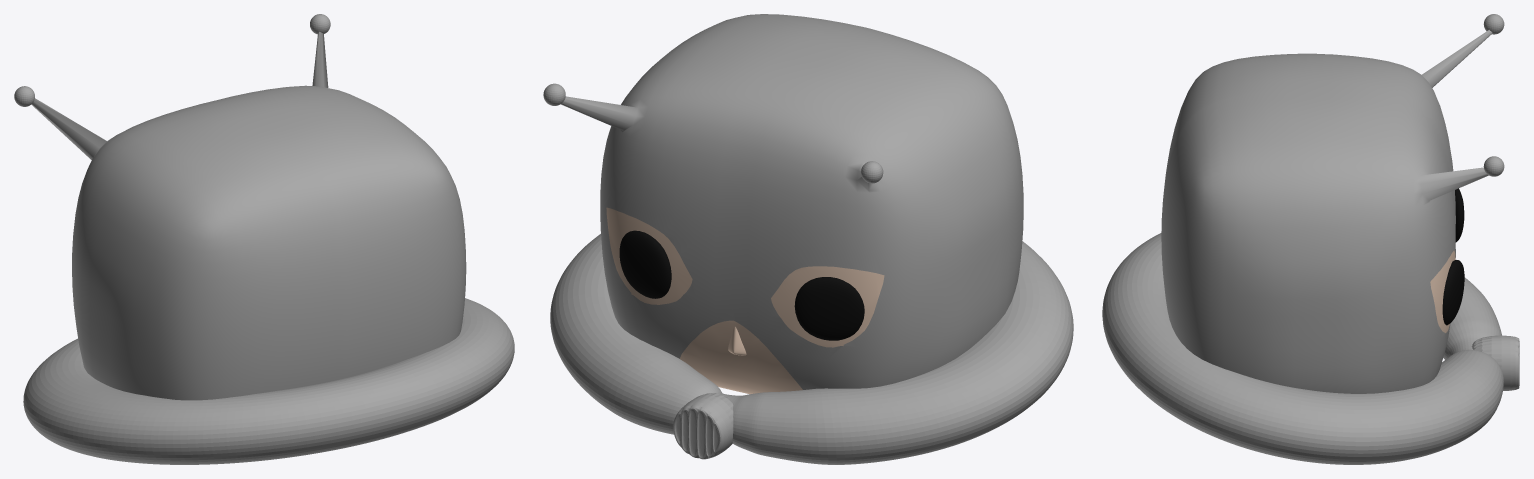
The model's file is AntMan(vintage).fbx.
3 renders of one model, left to right at view 1: azimuth 30°, elevation 25°; view 2: azimuth 150°, elevation 25°; view 3: azimuth 270°, elevation 25°, orthographic. The views are drawn at different scales.
Visible parts, largest first — view 1: Mask, Pipe; view 2: Mask, Pipe, Face, Eyes; view 3: Mask, Pipe, Eyes, Face.
Boxes of the visible parts, x1=… form: Mask: x1=14, y1=14, x2=466, y2=400; Pipe: x1=23, y1=298, x2=514, y2=464; Mask: x1=543, y1=14, x2=1023, y2=389; Pipe: x1=550, y1=234, x2=1073, y2=464; Face: x1=606, y1=207, x2=884, y2=394; Eyes: x1=619, y1=230, x2=864, y2=340; Mask: x1=1161, y1=14, x2=1504, y2=393; Pipe: x1=1102, y1=233, x2=1519, y2=464; Eyes: x1=1442, y1=188, x2=1464, y2=325; Face: x1=1430, y1=250, x2=1455, y2=333.
Size of the model in its own units: 55.93 by 37.16 by 46.31.
